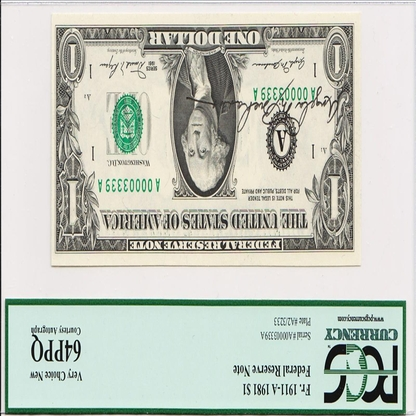one-front: (46, 19, 376, 273)
